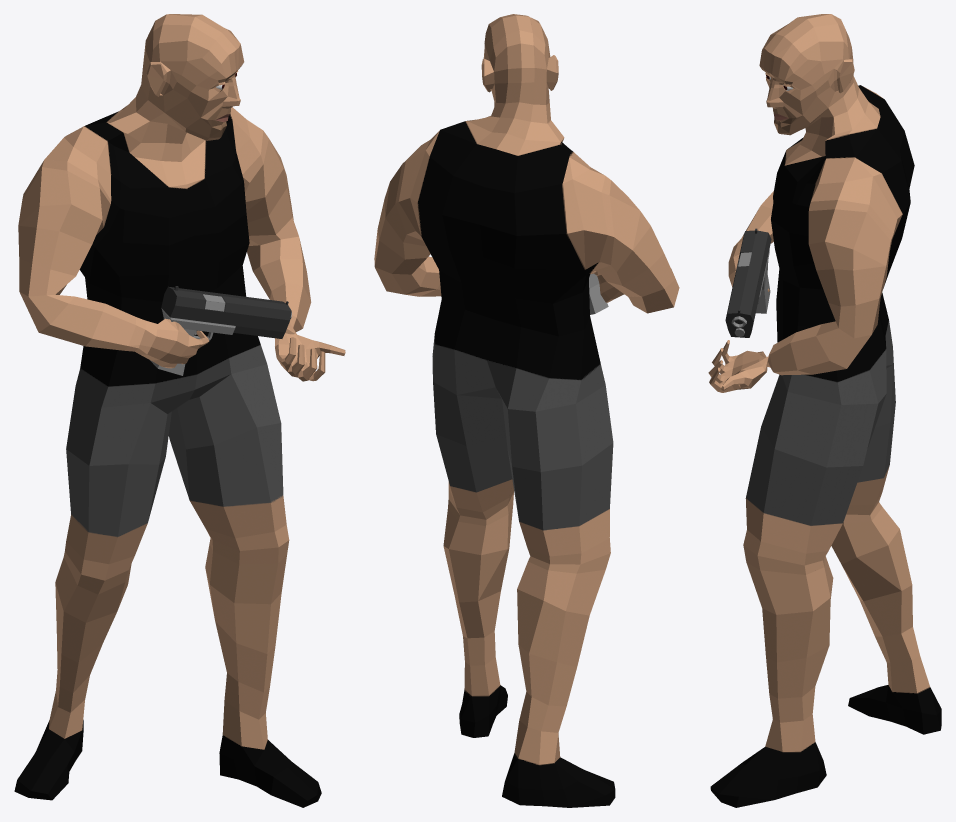
File: PlayerIdle(165).obj
3 renders of one model, left to right at view 1: azimuth 30°, elevation 25°; view 2: azimuth 150°, elevation 25°; view 3: azimuth 270°, elevation 25°, orthographic. The views are drawn at different scales.
Parts seen in each view (by area): view 1: Plane002, Box003; view 2: Plane002; view 3: Plane002, Box003.
Part boxes in pixels (x1,y1,x2,y2): Plane002: (14, 14, 345, 807); Box003: (150, 286, 291, 375); Plane002: (374, 14, 679, 807); Plane002: (708, 14, 941, 807); Box003: (725, 228, 771, 337).
Bounding box in the file's own units: 714 × 1795 × 508.
